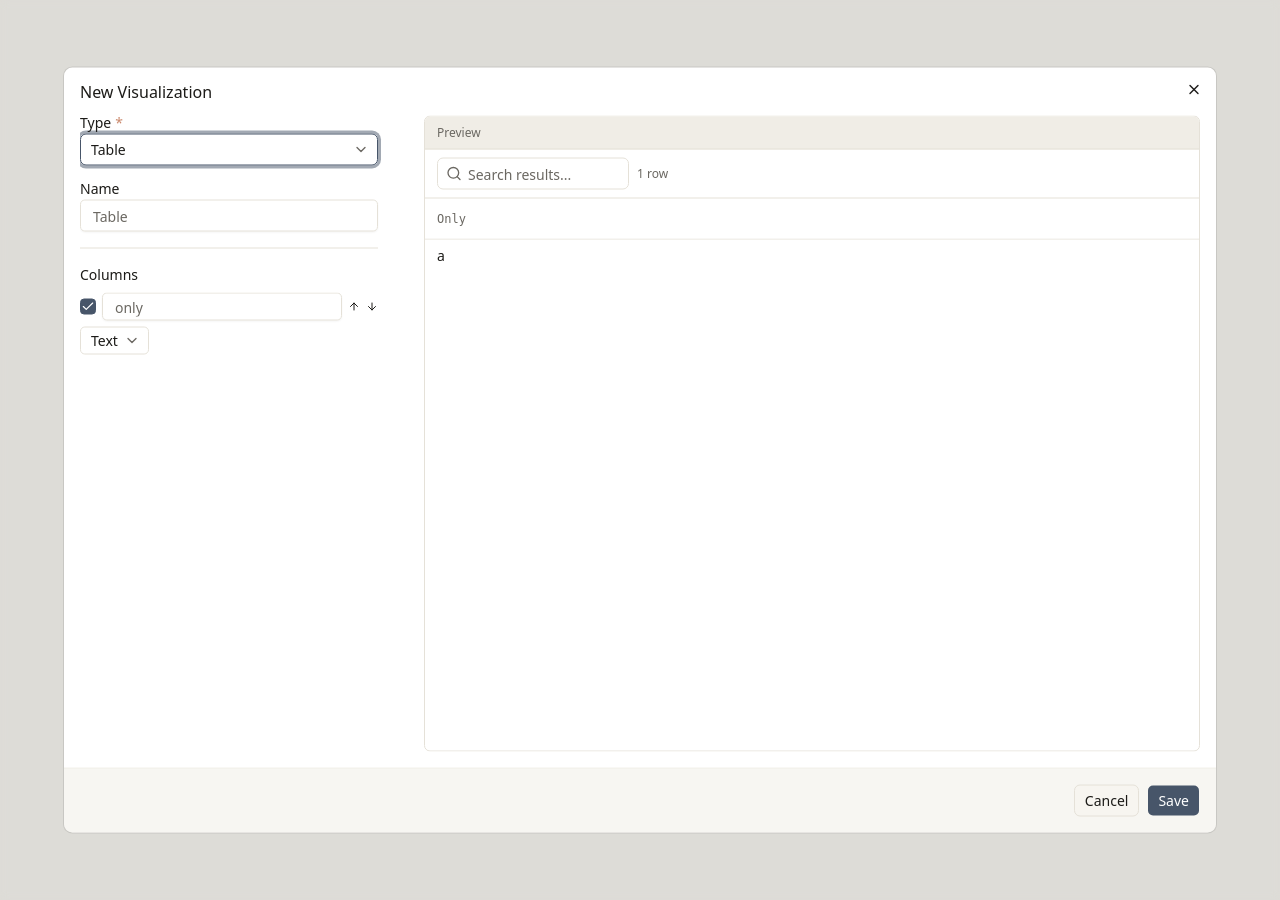
Test: EditVisualizationDialog chart column mapping › writes no mapping when there is nothing to infer
The width and height of the screenshot is (1280, 900).
Click the dropdown named "Type" at (108, 149), box [80, 134, 378, 166]
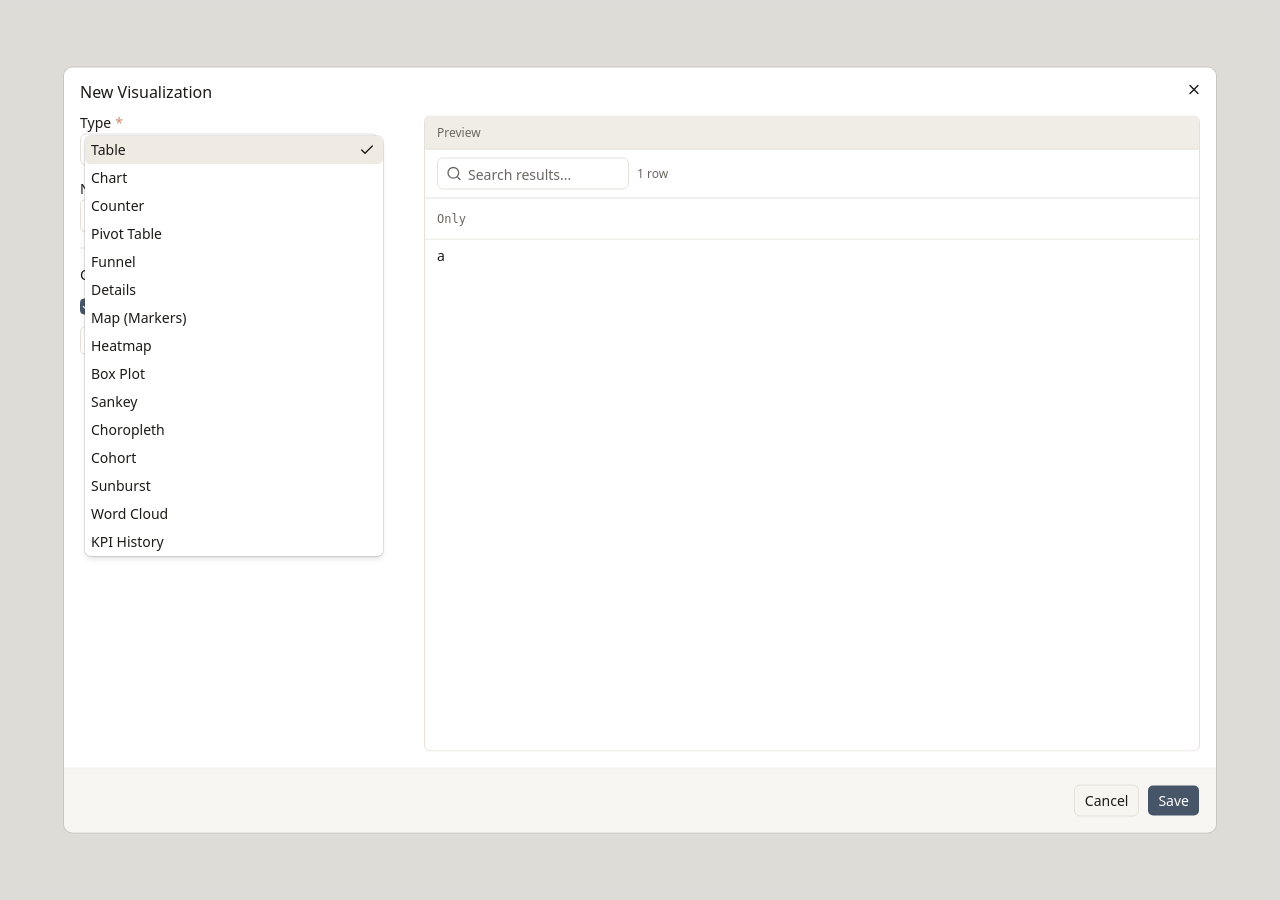
Click the option "Chart" at (109, 177), box [91, 168, 127, 186]
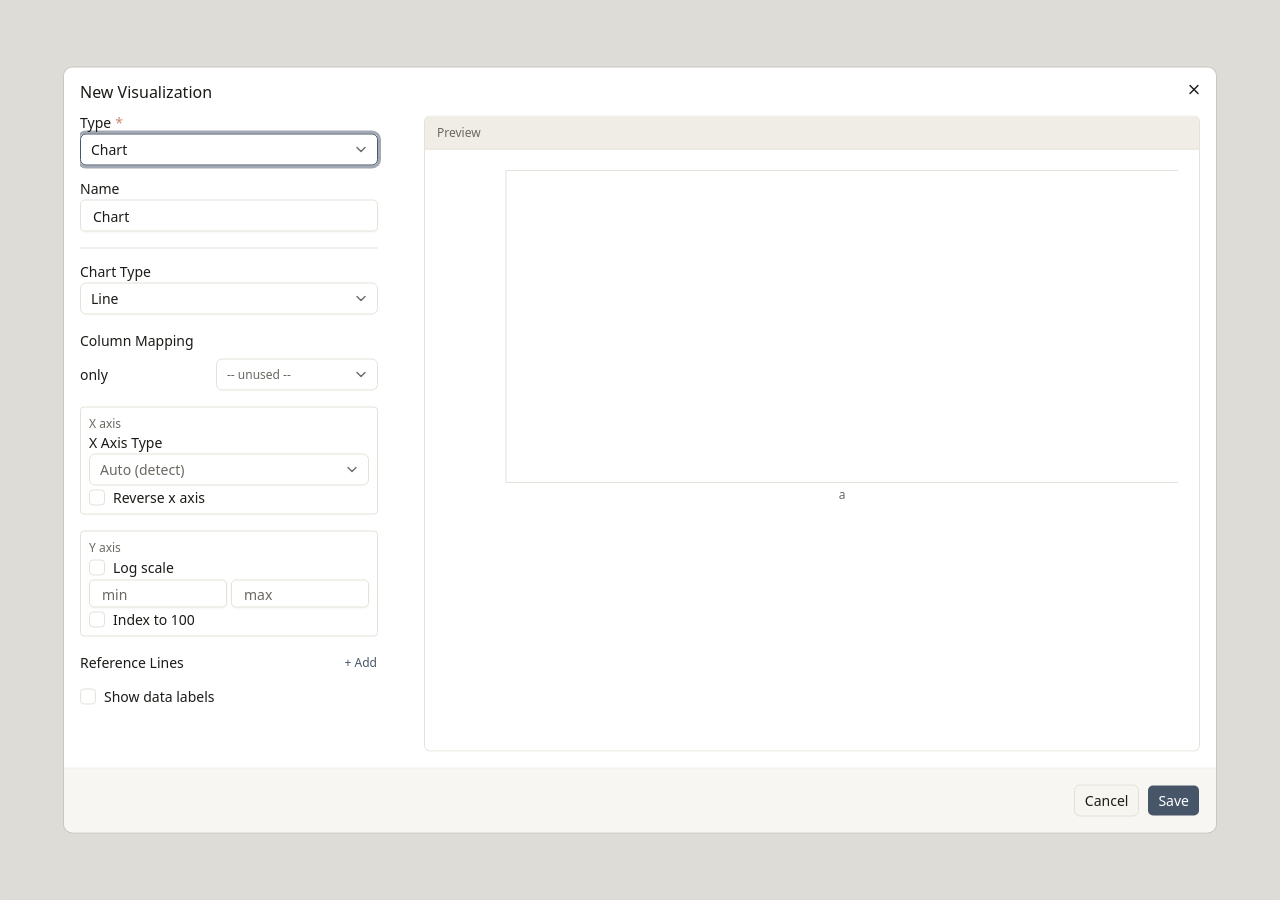
Now the dropdown named "Role for only" shows "-- unused --", box [216, 358, 378, 390]
